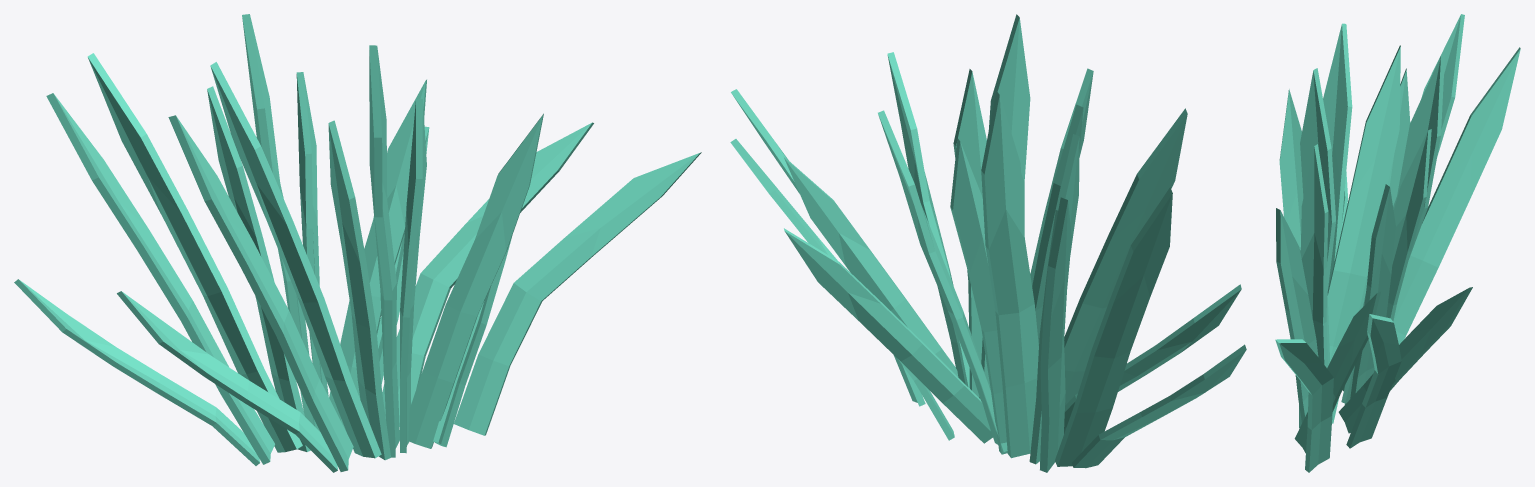
Rendered from Grama 2.fbx.
3 views of the same model, side by side, from view 1: azimuth 30°, elevation 25°; view 2: azimuth 150°, elevation 25°; view 3: azimuth 270°, elevation 25° (orthographic). The views are drawn at different scales.
Visible parts, largest first — view 1: Grama 2; view 2: Grama 2; view 3: Grama 2.
Boxes of the visible parts, bbox=[...] form: Grama 2: bbox=[14, 14, 701, 472]; Grama 2: bbox=[730, 14, 1246, 472]; Grama 2: bbox=[1275, 14, 1520, 472].
Bounding box in the file's own units: 67.56 × 44.73 × 27.61.
